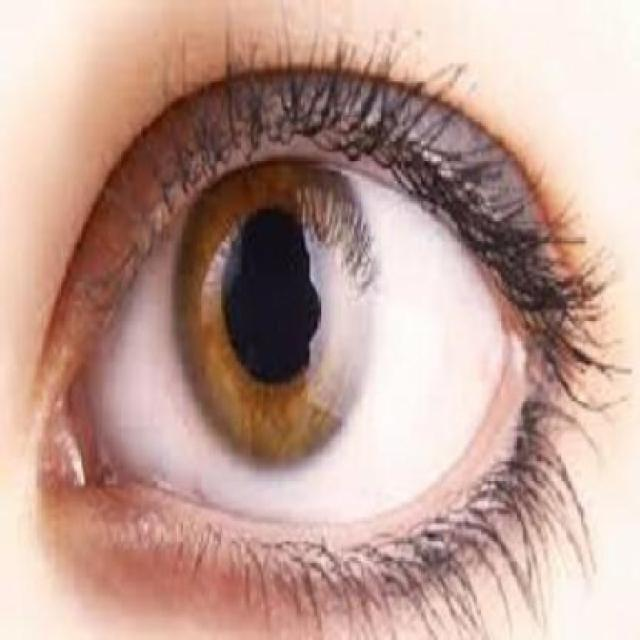awake: (43, 63, 555, 634)
